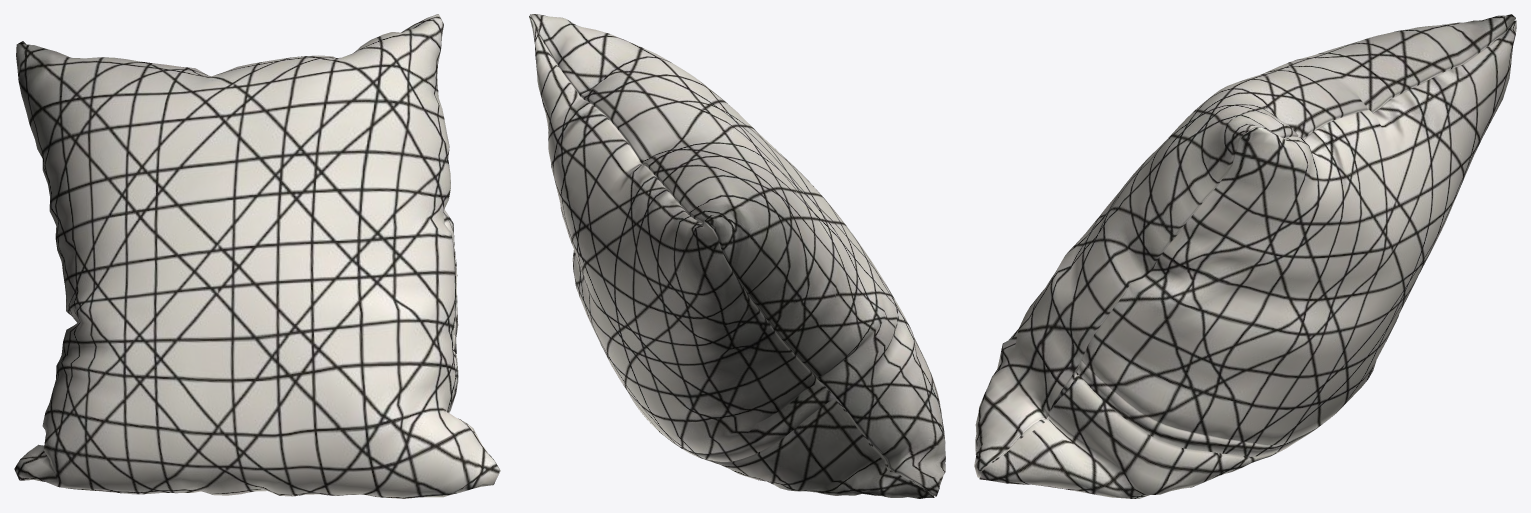
3 renders of one model, left to right at view 1: azimuth 30°, elevation 25°; view 2: azimuth 150°, elevation 25°; view 3: azimuth 270°, elevation 25°, orthographic. The views are drawn at different scales.
Visible parts, largest first — view 1: Item_Patterned pillow-01; view 2: Item_Patterned pillow-01; view 3: Item_Patterned pillow-01.
Boxes of the visible parts, x1,y1,x2,y2 form: Item_Patterned pillow-01: [14, 14, 500, 498]; Item_Patterned pillow-01: [529, 14, 945, 498]; Item_Patterned pillow-01: [974, 14, 1516, 498].
Size of the model in its own units: 0.4031 by 0.3549 by 0.4225.
1 material, 1 textured.
